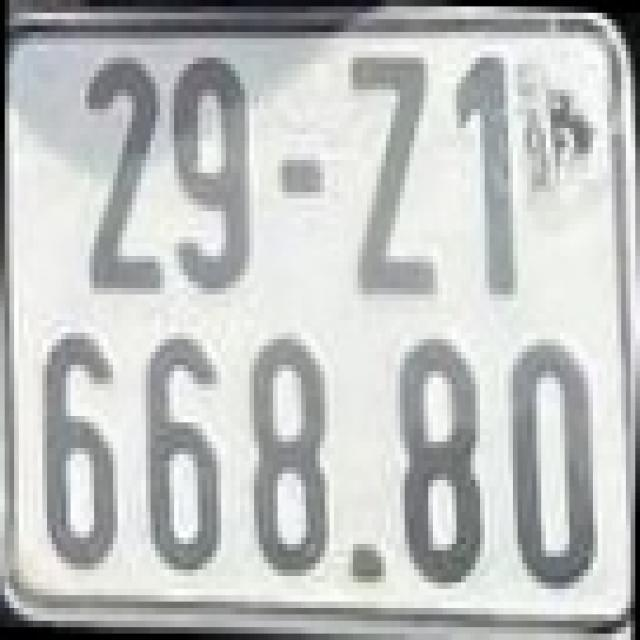0: (503, 333, 602, 589)
1: (447, 45, 527, 301)
2: (80, 52, 165, 294)
6: (141, 332, 226, 570), (38, 326, 118, 570)
8: (396, 326, 490, 589), (250, 326, 334, 576)
9: (169, 52, 259, 294)
Z: (339, 38, 447, 301)
